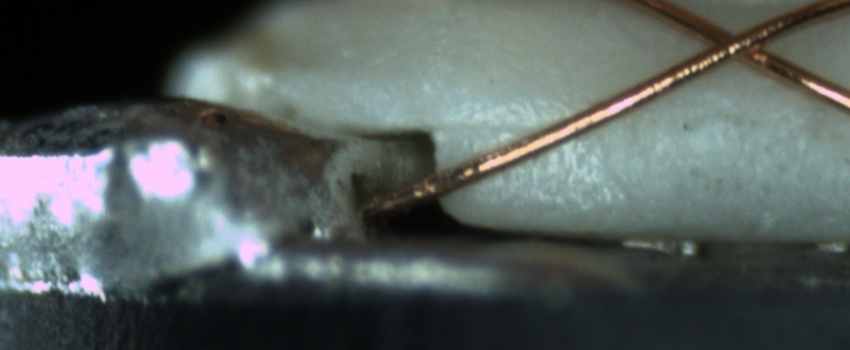CL: (687, 14, 788, 72)
DL: (454, 97, 576, 160)
